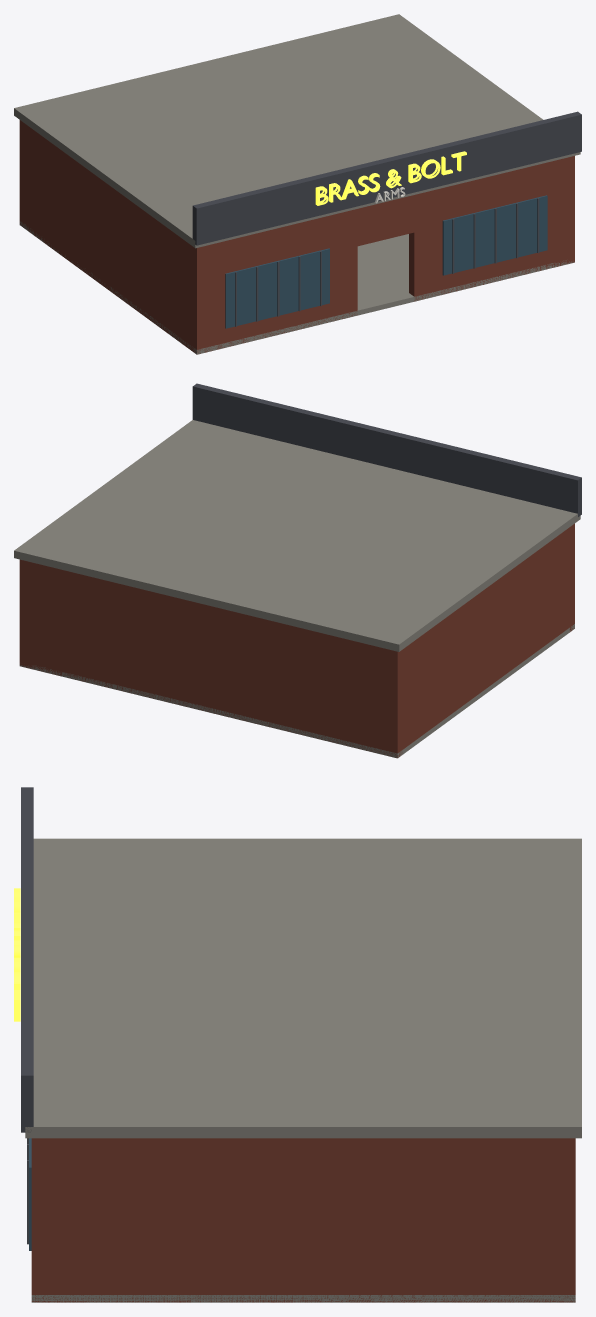
File: shop_gun.glb
3 renders of one model, top to bottom at view 1: azimuth 30°, elevation 25°; view 2: azimuth 150°, elevation 25°; view 3: azimuth 270°, elevation 25°, orthographic. The views are drawn at different scales.
Parts seen in each view (by area): view 1: shop_gun; view 2: shop_gun; view 3: shop_gun.
Boxes of the visible parts, left/top/right/bottom form: shop_gun: left=14, top=14, right=581, bottom=354; shop_gun: left=14, top=383, right=581, bottom=758; shop_gun: left=14, top=787, right=581, bottom=1302.
Size of what is drawn, in the model's own units: 16.3 by 6.05 by 13.57.
